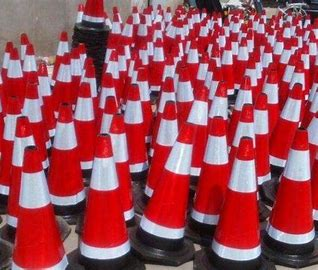traffic_cone: (198, 129, 269, 270), (252, 120, 318, 267), (4, 143, 78, 270), (68, 135, 138, 264), (140, 119, 202, 257), (194, 109, 241, 247)
